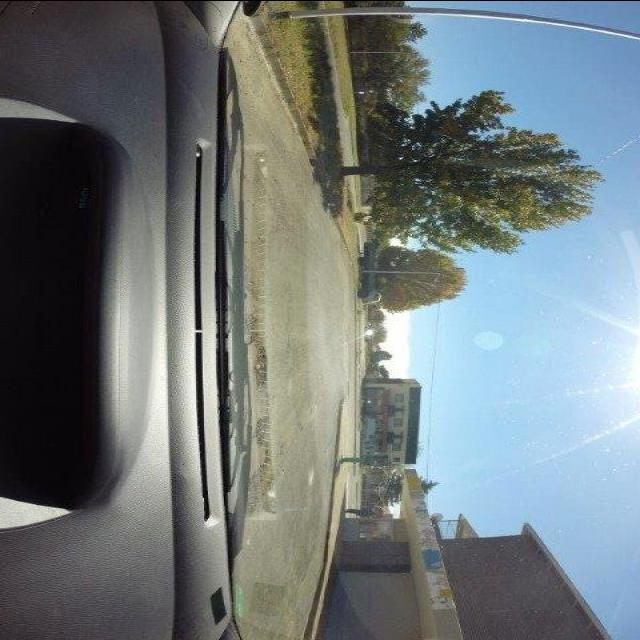lubang: (252, 416, 284, 502), (243, 287, 269, 389)
